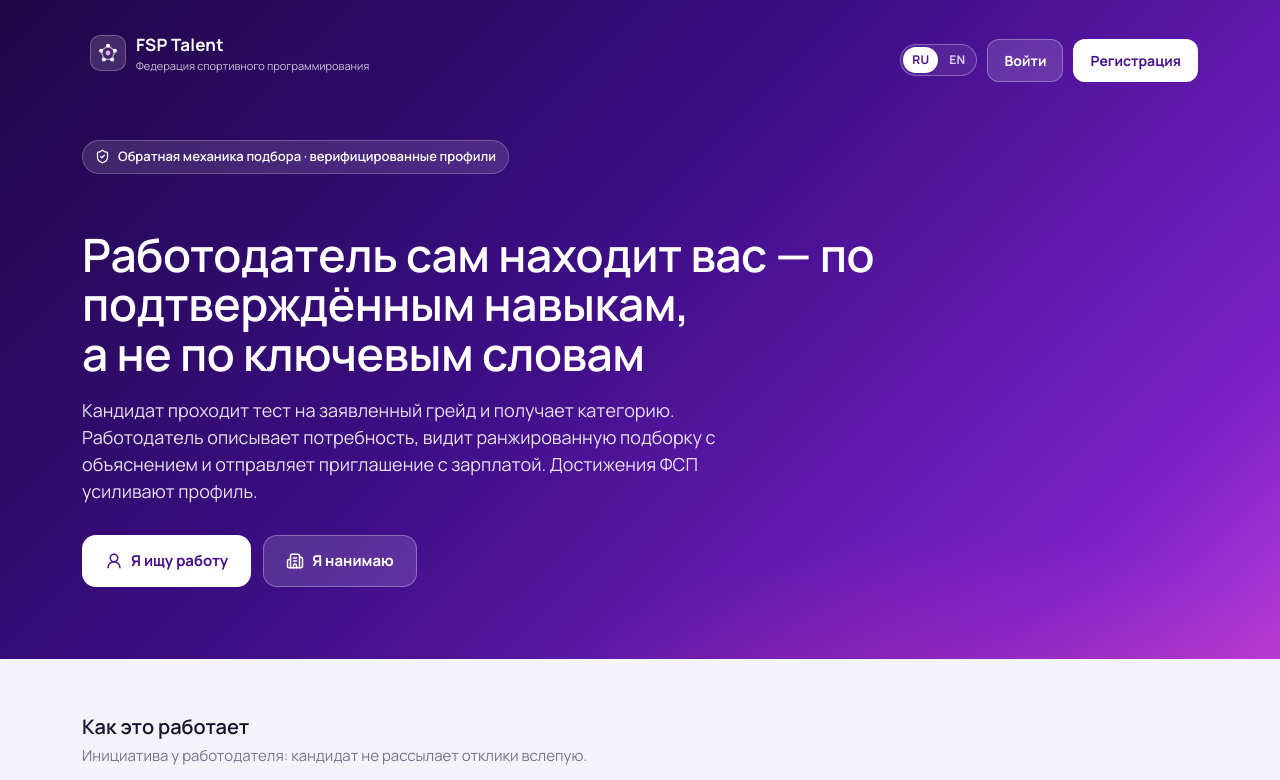
Test case: landing page › switches language in place
This screenshot has width=1280, height=780.
What coordinates should you click on to do the following:
click the button with aria-label "English"
I would click on:
 (957, 60)
Its box is [940,47,974,73].
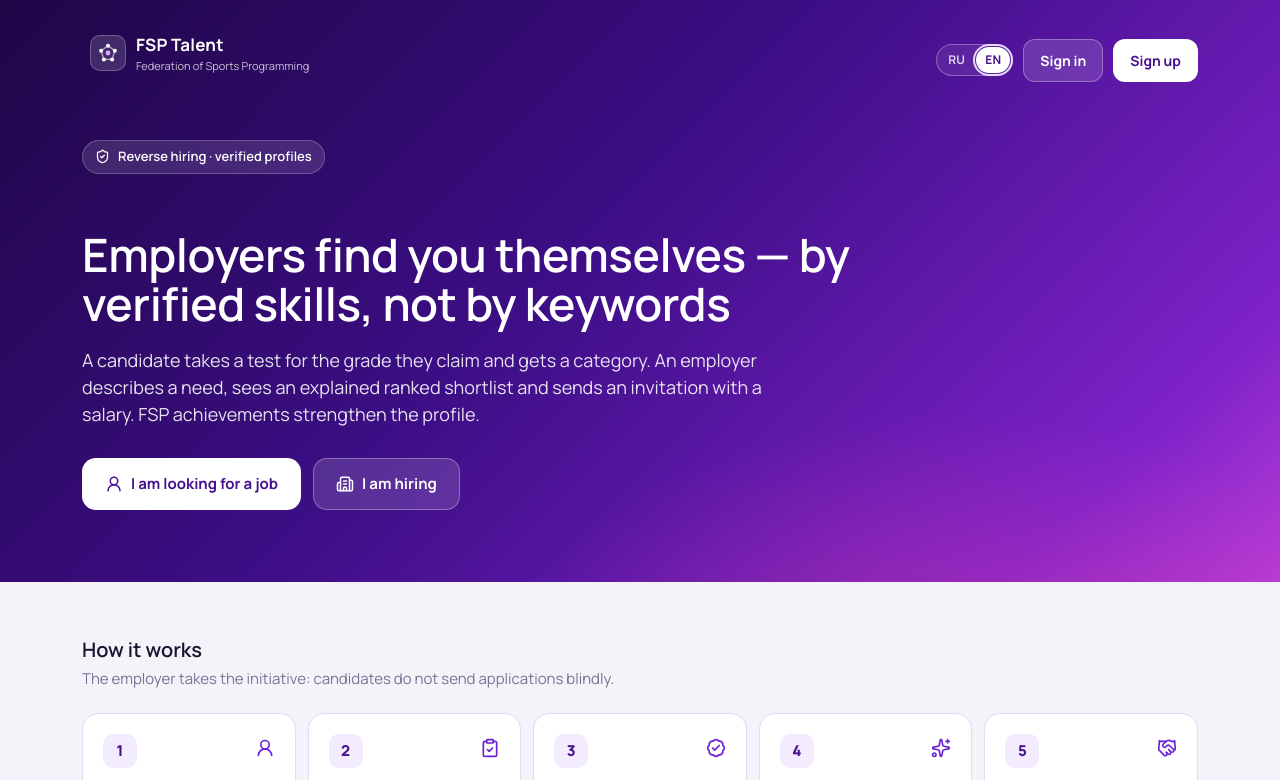
Expected: the heading "How it works" is shown, [82,636,202,663]
Expected: the heading "Как это работает" is gone
